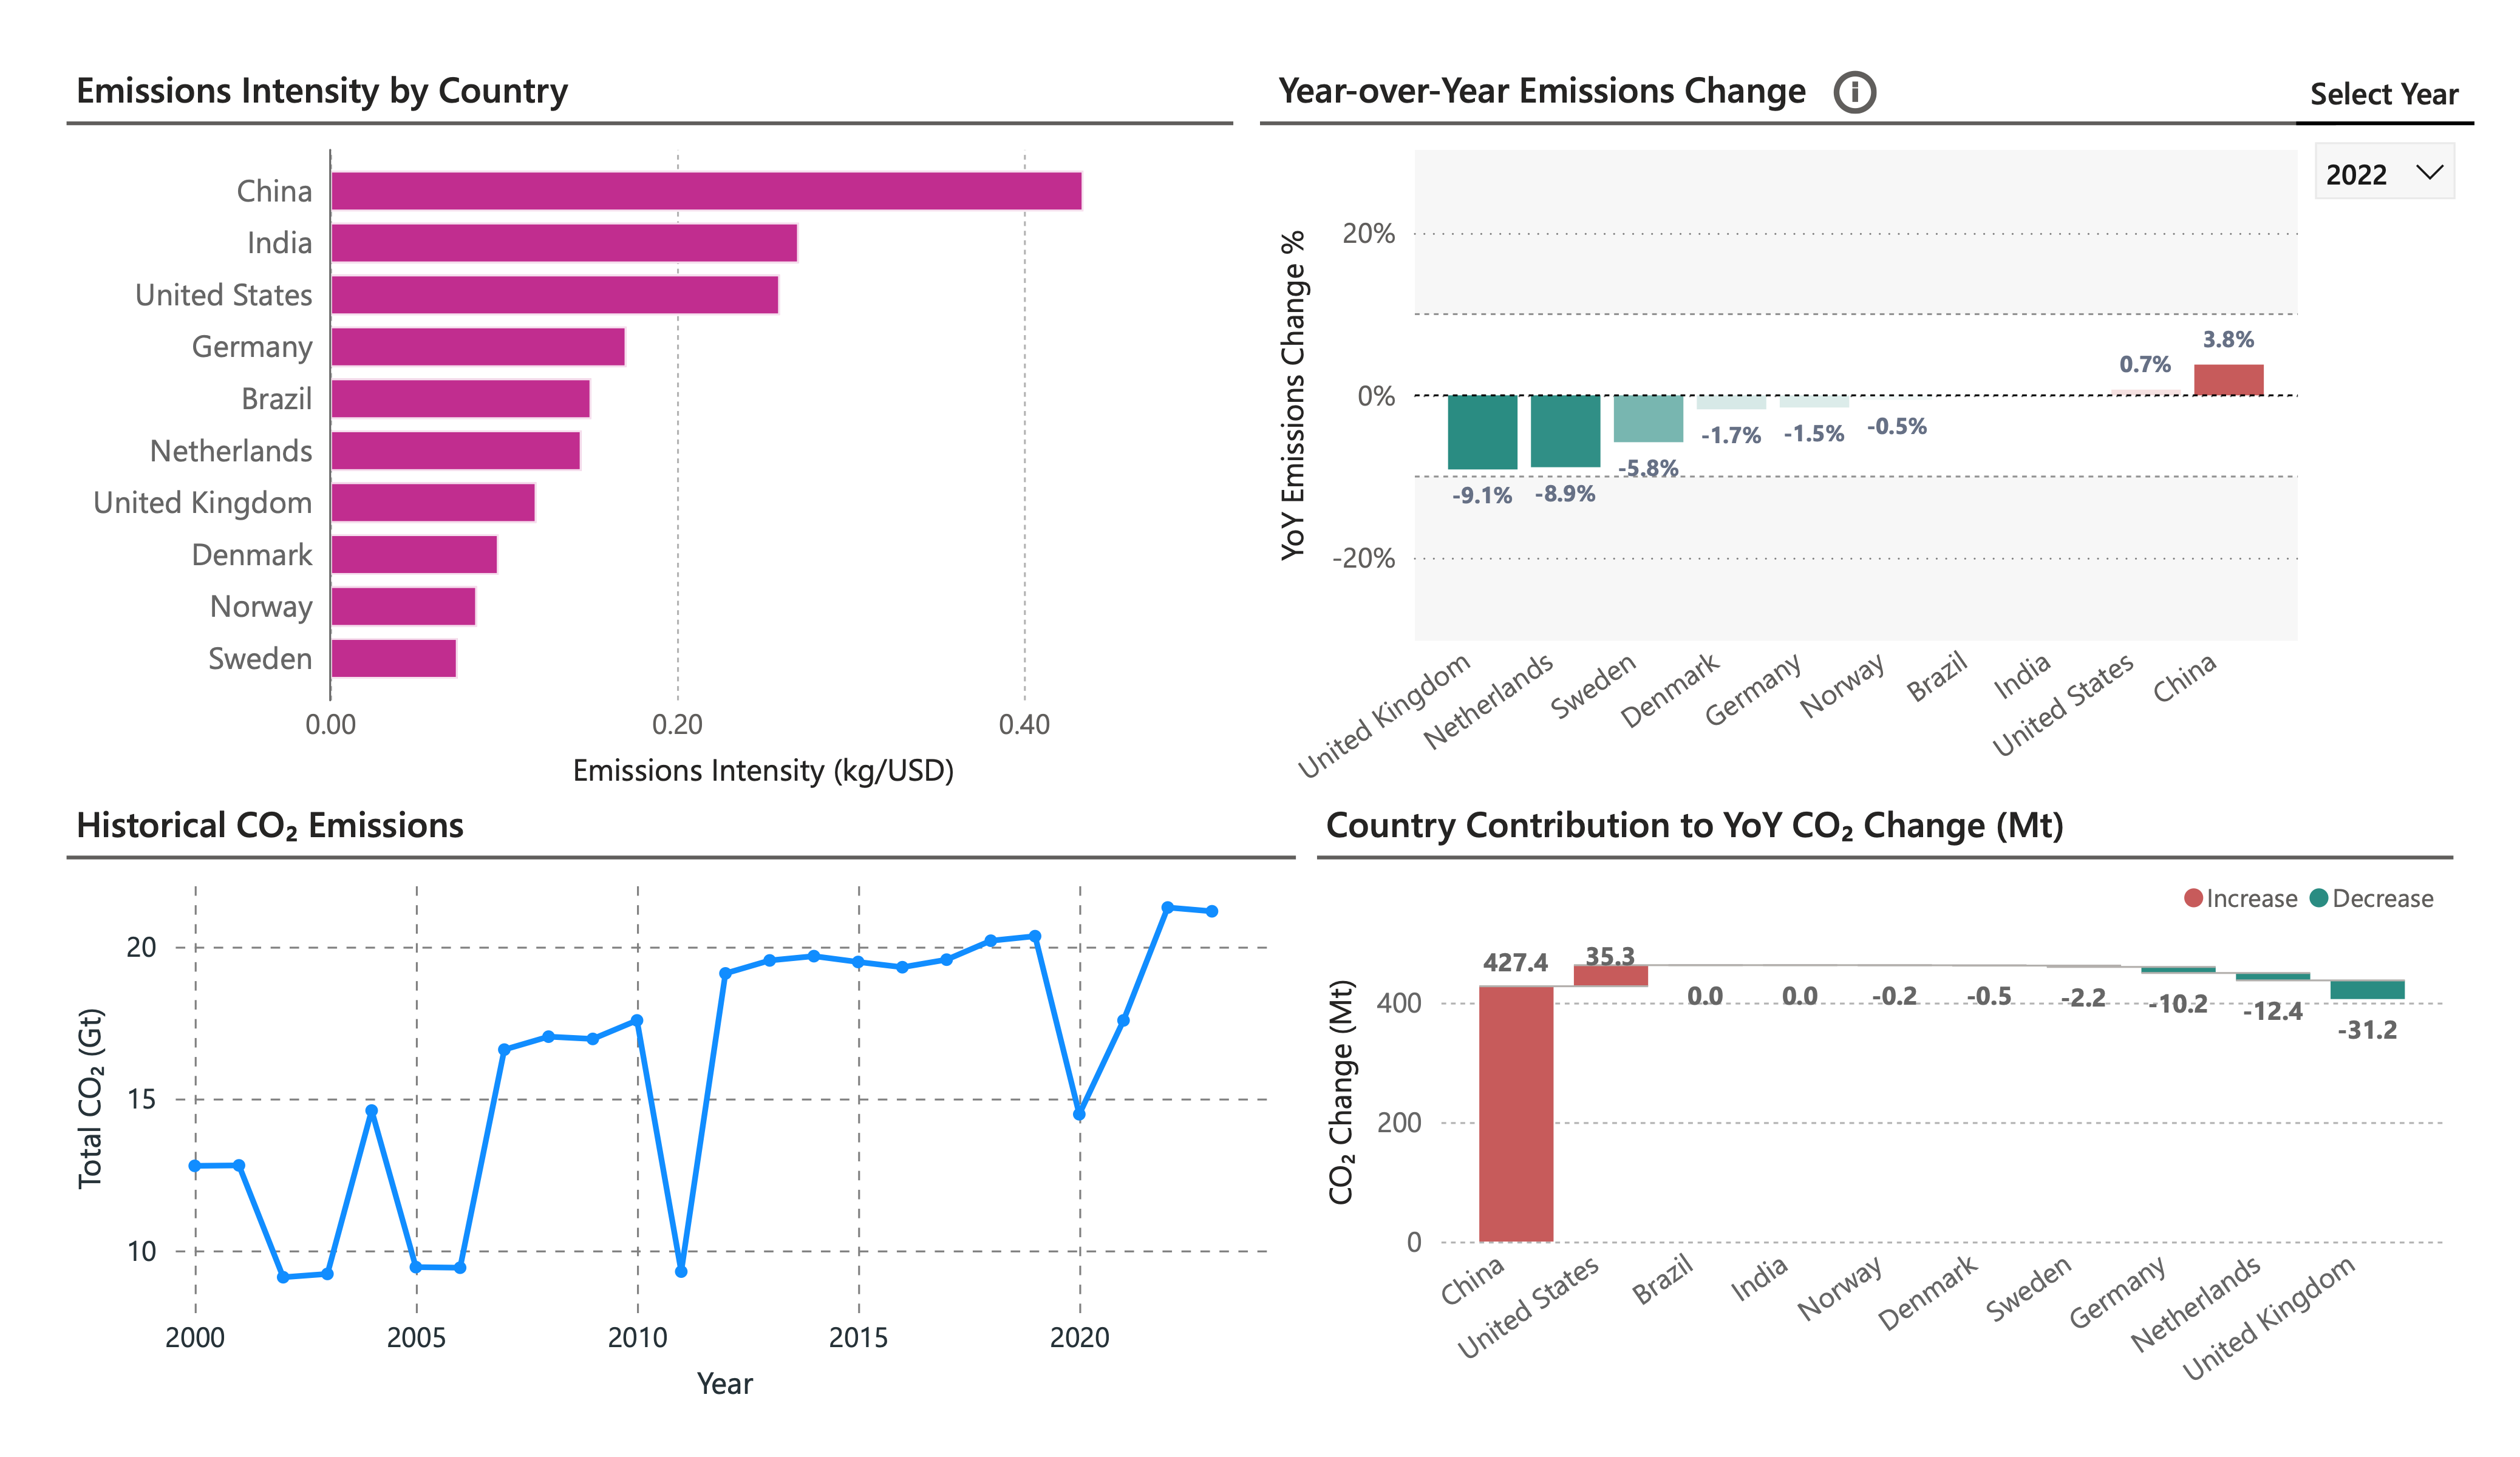

This screenshot's page, from the dashboard's own definition file:
{"tool":"powerbi","page":{"name":"Emissions Analysis","canvas":[1280,720],"ordinal":1},"visuals":[{"type":"barChart","title":"Emissions Intensity by Country","fields":{"Category":["DIM_ENTITY.entity_name"],"Y":["_Measure.Emissions Intensity (kg/USD)"]},"box":[11.4,10,614.3,387.1],"z":0},{"type":"columnChart","title":"Year-over-Year Emissions Change","fields":{"Category":["DIM_ENTITY.entity_name"],"Y":["_Measure.YoY Emissions Change %"]},"box":[640,10,567.1,392.9],"z":1000},{"type":"waterfallChart","title":"Country Contribution to YoY CO₂ Change (Mt)","fields":{"Category":["DIM_ENTITY.entity_name"],"Y":["_Measure.CO2 Change (Mt)"]},"box":[670,397.1,598.6,322.9],"z":2000},{"type":"actionButton","box":[917.1,0,100,40],"z":3000},{"type":"slicer","title":"Select Year","fields":{"Values":["DIM_DATE.year"]},"box":[1185.7,14.3,94.3,98.6],"z":4000},{"type":"lineChart","title":"Historical CO₂ Emissions","fields":{"Category":["DIM_DATE.year"],"Y":["_Measure.Total CO2 (Gt)"]},"box":[11.4,397.1,647.1,322.9],"z":5000}]}

Visuals, with their boxes on the page's 1280x720 design canvas (x1, y1, x2, y2). These are canvas units, not pixel positions in the 2520x1457 screenshot, which may show the page scaled, cropped or inside an application window:
"Emissions Intensity by Country" barChart: x1=11, y1=10, x2=626, y2=397
"Year-over-Year Emissions Change" columnChart: x1=640, y1=10, x2=1207, y2=403
"Country Contribution to YoY CO₂ Change (Mt)" waterfallChart: x1=670, y1=397, x2=1269, y2=720
actionButton: x1=917, y1=0, x2=1017, y2=40
"Select Year" slicer: x1=1186, y1=14, x2=1280, y2=113
"Historical CO₂ Emissions" lineChart: x1=11, y1=397, x2=658, y2=720
